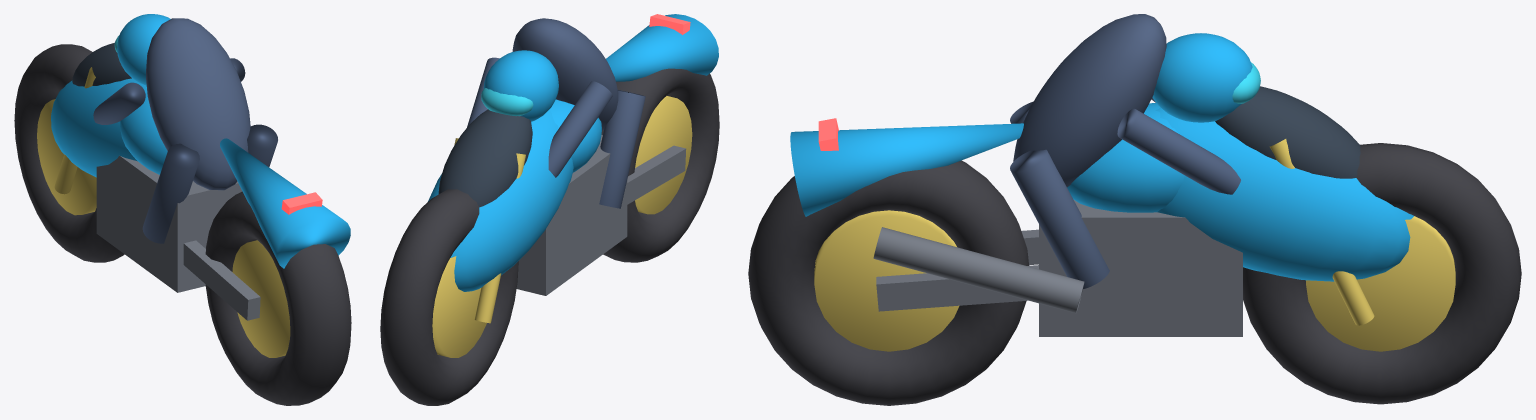
Rendered from moto_jugador.glb.
3 views of the same model, side by side, from view 1: azimuth 30°, elevation 25°; view 2: azimuth 150°, elevation 25°; view 3: azimuth 270°, elevation 25° (orthographic). The views are drawn at different scales.
Parts seen in each view (by area): view 1: Neumatico_-0.82, Torso_Piloto, Bloque_Motor, Neumatico_0.82, Colin_Trasero, Carenado_Frontal, Llanta_-0.82, Pierna_-1, Llanta_0.82, Basculante_-1, Deposito_Comb, Casco_Piloto (+5 smaller); view 2: Neumatico_0.82, Neumatico_-0.82, Carenado_Frontal, Bloque_Motor, Cupula_Aero, Torso_Piloto, Colin_Trasero, Llanta_-0.82, Llanta_0.82, Casco_Piloto, Pierna_-1, Brazo_-1 (+6 smaller); view 3: Neumatico_-0.82, Neumatico_0.82, Carenado_Frontal, Bloque_Motor, Torso_Piloto, Llanta_-0.82, Colin_Trasero, Llanta_0.82, Cupula_Aero, Escape_GP, Casco_Piloto, Pierna_1 (+4 smaller).
Part boxes in pixels (left/top/right/bottom): Neumatico_-0.82: left=205, top=191, right=351, bottom=405; Torso_Piloto: left=146, top=18, right=250, bottom=190; Bloque_Motor: left=96, top=155, right=242, bottom=292; Neumatico_0.82: left=14, top=44, right=124, bottom=262; Colin_Trasero: left=220, top=138, right=350, bottom=268; Carenado_Frontal: left=51, top=78, right=147, bottom=177; Llanta_-0.82: left=232, top=240, right=290, bottom=357; Pierna_-1: left=142, top=143, right=199, bottom=243; Llanta_0.82: left=37, top=99, right=96, bottom=215; Basculante_-1: left=183, top=240, right=260, bottom=320; Deposito_Comb: left=120, top=93, right=167, bottom=174; Casco_Piloto: left=117, top=14, right=170, bottom=85; Neumatico_0.82: left=380, top=189, right=518, bottom=405; Neumatico_-0.82: left=601, top=68, right=719, bottom=262; Carenado_Frontal: left=428, top=110, right=573, bottom=291; Bloque_Motor: left=516, top=135, right=627, bottom=295; Cupula_Aero: left=438, top=109, right=532, bottom=207; Torso_Piloto: left=512, top=18, right=618, bottom=130; Colin_Trasero: left=606, top=14, right=718, bottom=81; Llanta_-0.82: left=635, top=96, right=692, bottom=214; Llanta_0.82: left=432, top=256, right=486, bottom=357; Casco_Piloto: left=483, top=50, right=558, bottom=121; Pierna_-1: left=599, top=90, right=645, bottom=208; Brazo_-1: left=548, top=81, right=612, bottom=177; Neumatico_-0.82: left=748, top=160, right=1028, bottom=405; Neumatico_0.82: left=1243, top=143, right=1521, bottom=404; Carenado_Frontal: left=1155, top=107, right=1413, bottom=281; Bloque_Motor: left=1039, top=200, right=1242, bottom=336; Torso_Piloto: left=1013, top=14, right=1166, bottom=187; Llanta_-0.82: left=814, top=210, right=959, bottom=351; Colin_Trasero: left=790, top=123, right=1023, bottom=216; Llanta_0.82: left=1306, top=216, right=1455, bottom=351; Cupula_Aero: left=1215, top=86, right=1360, bottom=178; Escape_GP: left=873, top=227, right=1084, bottom=313; Casco_Piloto: left=1152, top=33, right=1252, bottom=122; Pierna_1: left=1010, top=149, right=1109, bottom=288.
Size of the model in its own units: 0.6349 by 1.41 by 2.58.
